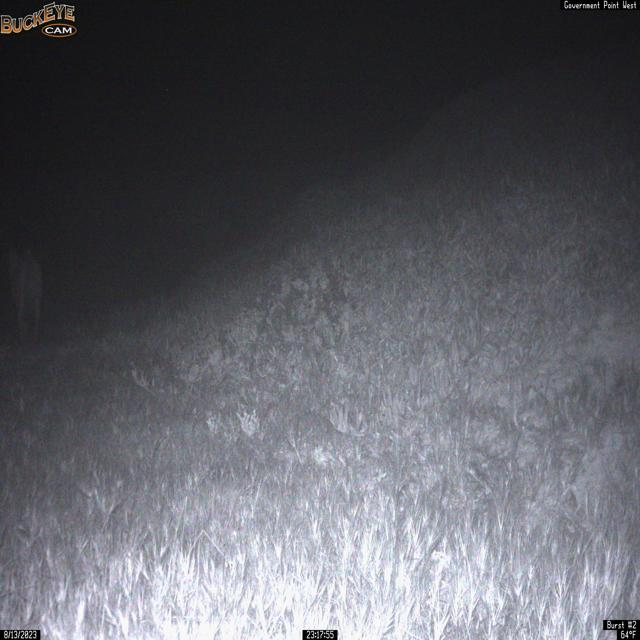coyote: (7, 241, 44, 346)
